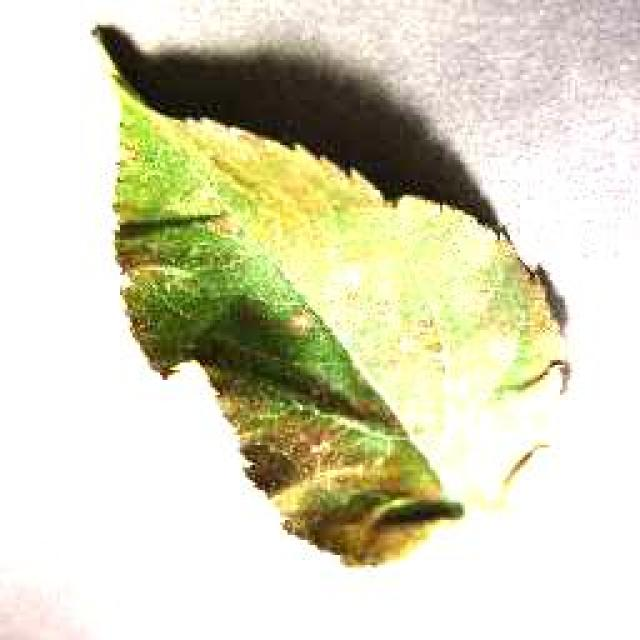apple cedar apple rust: (88, 20, 572, 570)
